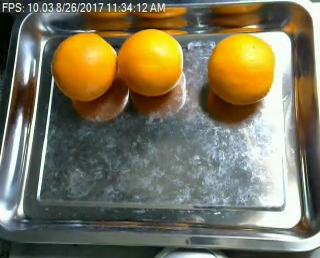Orange: (207, 34, 275, 105), (50, 31, 117, 102), (118, 28, 184, 95)
